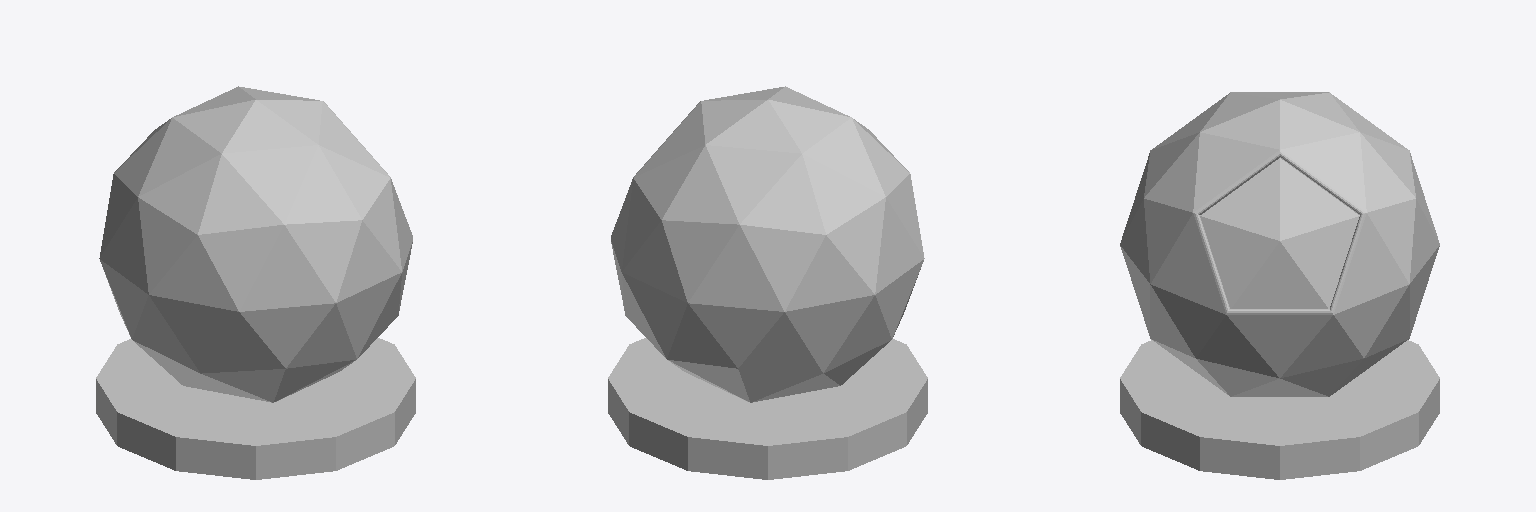
Rendered from test_obj_smooth.obj.
3 views of the same model, side by side, from view 1: azimuth 30°, elevation 25°; view 2: azimuth 150°, elevation 25°; view 3: azimuth 270°, elevation 25° (orthographic).
Parts seen in each view (by area): view 1: Icosphere; view 2: Icosphere; view 3: Icosphere.
Part boxes in pixels (x1,y1,x2,y2): Icosphere: (96, 86, 415, 479); Icosphere: (608, 86, 927, 479); Icosphere: (1120, 92, 1439, 479).
Size of the model in its own units: 2 by 2.16 by 2.